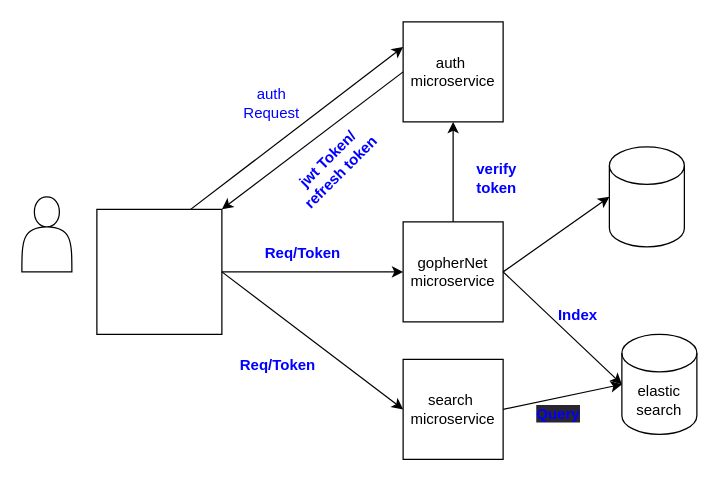
This 719x481 diagram has some shape labels left out. Each missing label, with the centre of its shape:
"front-end" goes at pixel 159 271.
"postrgres DB" goes at pixel 646 196.
